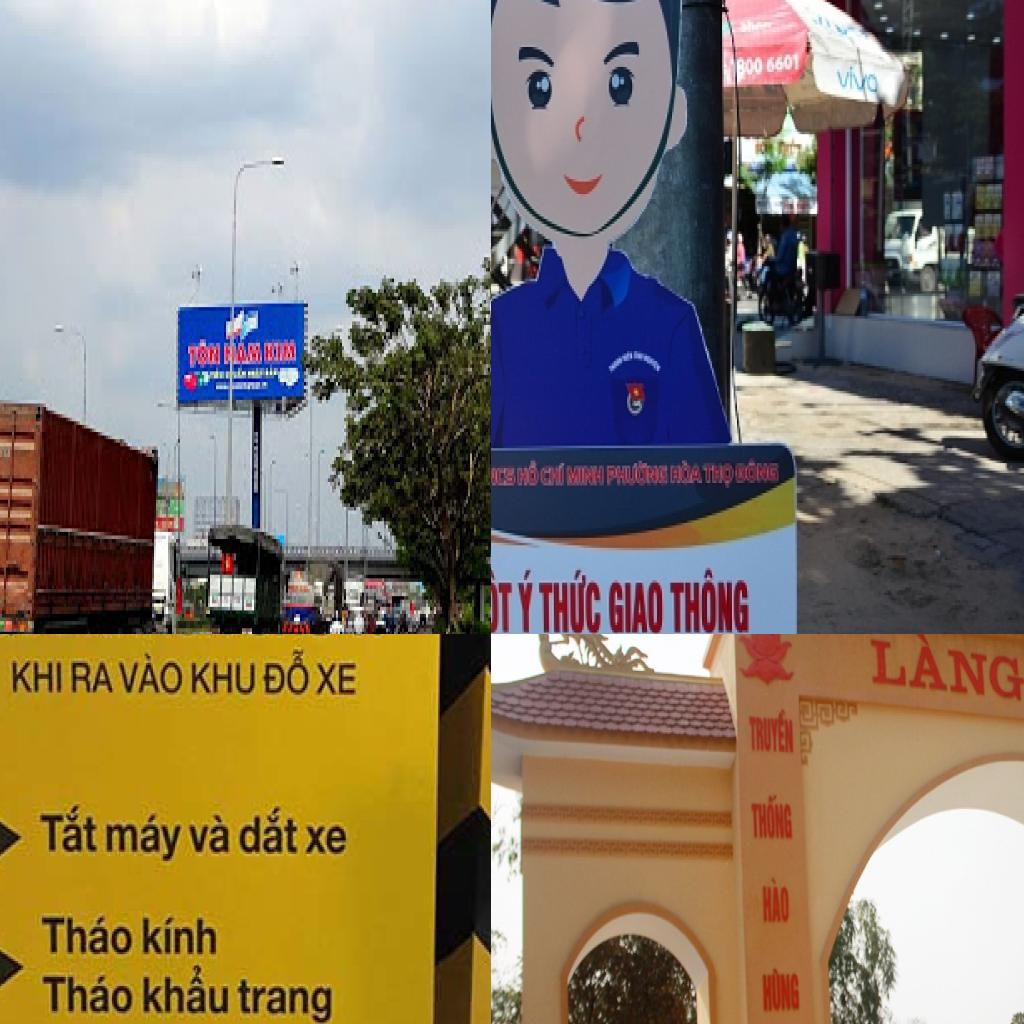text: (868, 634, 1024, 704), (667, 567, 752, 634), (141, 963, 233, 1018), (538, 565, 607, 634), (40, 913, 136, 959), (238, 979, 333, 1024), (105, 813, 189, 863), (42, 975, 136, 1018), (238, 802, 300, 858), (607, 577, 667, 634), (39, 802, 100, 856), (141, 916, 219, 958), (117, 652, 185, 700), (190, 661, 257, 697), (262, 649, 312, 697), (747, 705, 795, 755), (749, 794, 795, 840), (11, 661, 64, 697), (189, 813, 233, 856), (607, 458, 670, 488), (763, 966, 801, 1013), (303, 822, 351, 859), (491, 568, 515, 634), (71, 660, 117, 694), (515, 565, 537, 634), (315, 663, 359, 697), (837, 64, 882, 97), (762, 876, 791, 924), (735, 458, 782, 486), (188, 340, 222, 372), (704, 461, 735, 493), (567, 463, 606, 488), (670, 458, 704, 486), (264, 339, 298, 364), (765, 52, 802, 74), (517, 460, 541, 490), (539, 461, 565, 488), (737, 54, 764, 80), (491, 465, 517, 488)
